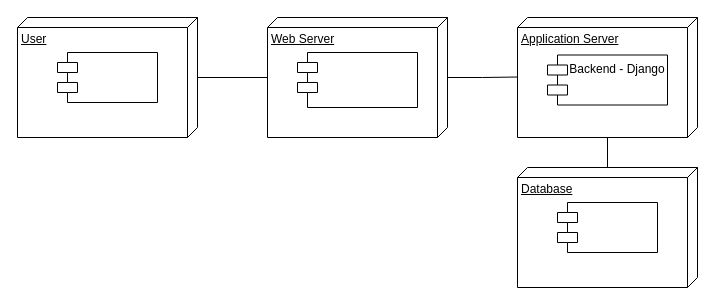
This 715x305 diagram has some shape labels left out. The box of each missing label's shape, as (x1, y1, x2, y2) in pixels:
FrontEnd-Nuxt: (296, 52, 418, 108)
Postgres SQL: (556, 202, 658, 252)
Web Browser: (56, 52, 158, 102)
